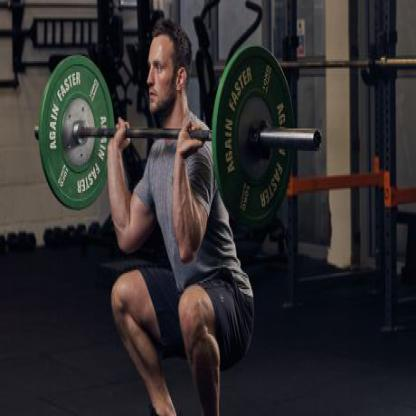Barbell: (312, 126, 325, 155)
